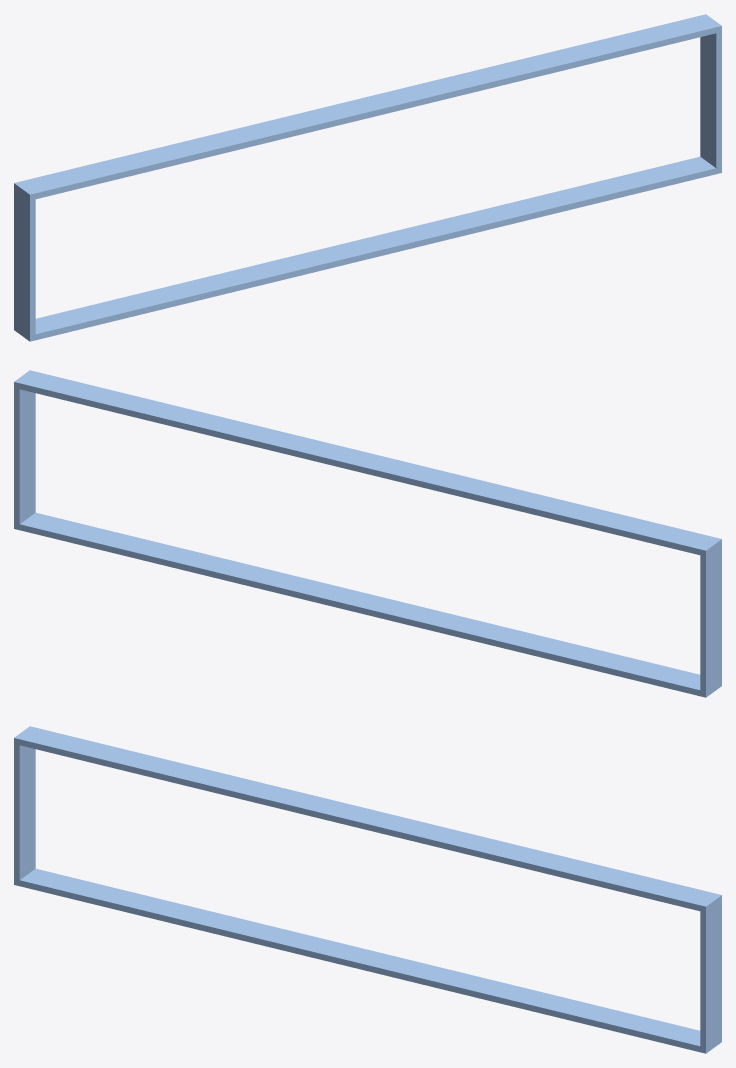
The model's file is WindowFrame_1.fbx.
The picture shows the model from 3 angles, top to bottom: view 1: azimuth 30°, elevation 25°; view 2: azimuth 150°, elevation 25°; view 3: azimuth 330°, elevation 25°; orthographic projection.
Visible parts, largest first — view 1: WindowFrame_1; view 2: WindowFrame_1; view 3: WindowFrame_1.
Part boxes in pixels (x1,y1,x2,y2): WindowFrame_1: (14, 14, 721, 341); WindowFrame_1: (14, 370, 721, 697); WindowFrame_1: (14, 726, 721, 1053).
Bounding box in the file's own units: 6.01 × 0.24 × 1.22.
